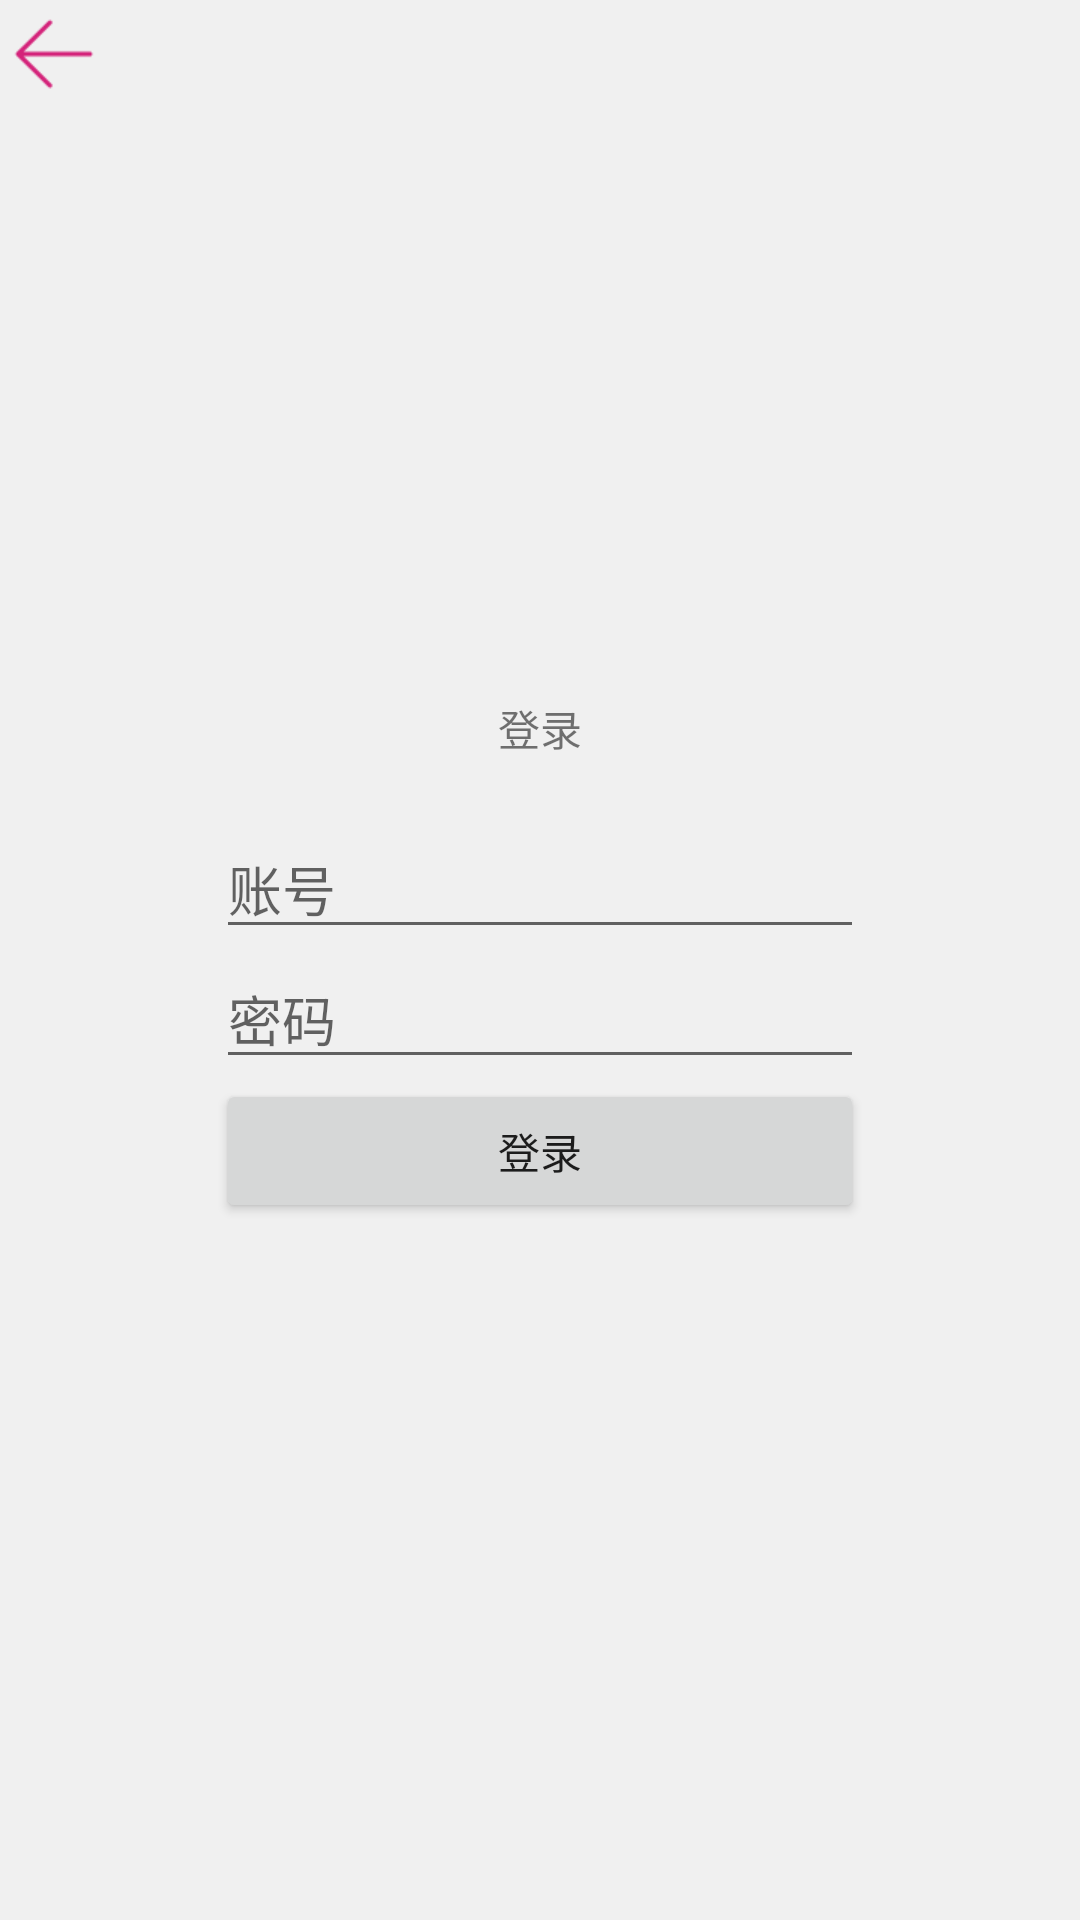

Locate icon controls on the screen. Image size 1080×1920, boxes as [x1, y1, x2, y2].
all return: [15, 19, 93, 89]
